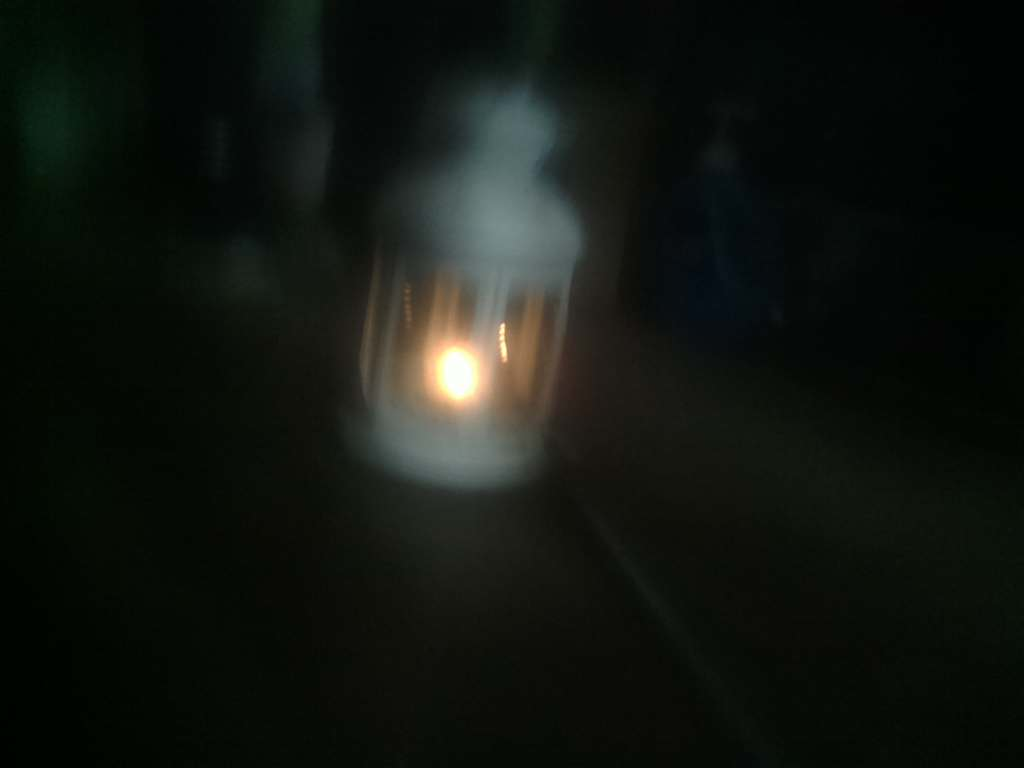fire: (384, 327, 508, 427)
